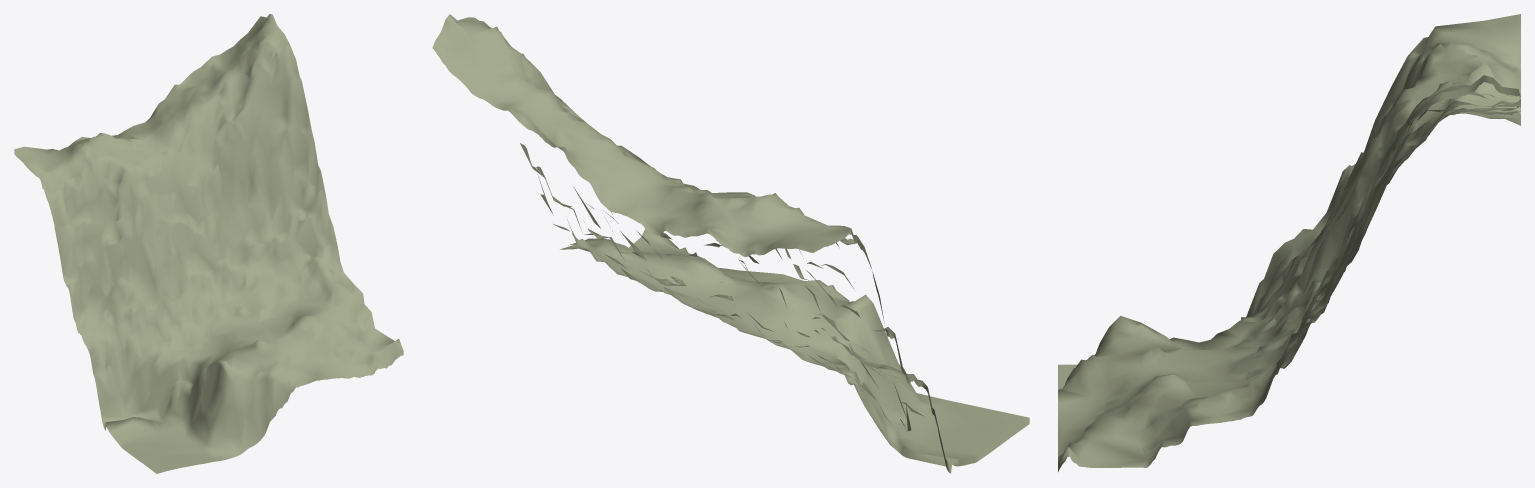
Rendered from terrain_r3_c2_lod1.glb.
3 renders of one model, left to right at view 1: azimuth 30°, elevation 25°; view 2: azimuth 150°, elevation 25°; view 3: azimuth 270°, elevation 25°, orthographic. The views are drawn at different scales.
Parts seen in each view (by area): view 1: terrain_r3_c2_lod1; view 2: terrain_r3_c2_lod1; view 3: terrain_r3_c2_lod1.
Part boxes in pixels (<box>): terrain_r3_c2_lod1: <box>14,14,403,473</box>; terrain_r3_c2_lod1: <box>432,14,1029,473</box>; terrain_r3_c2_lod1: <box>1058,14,1520,471</box>.
Bounding box in the file's own units: 50 × 59.16 × 50.
